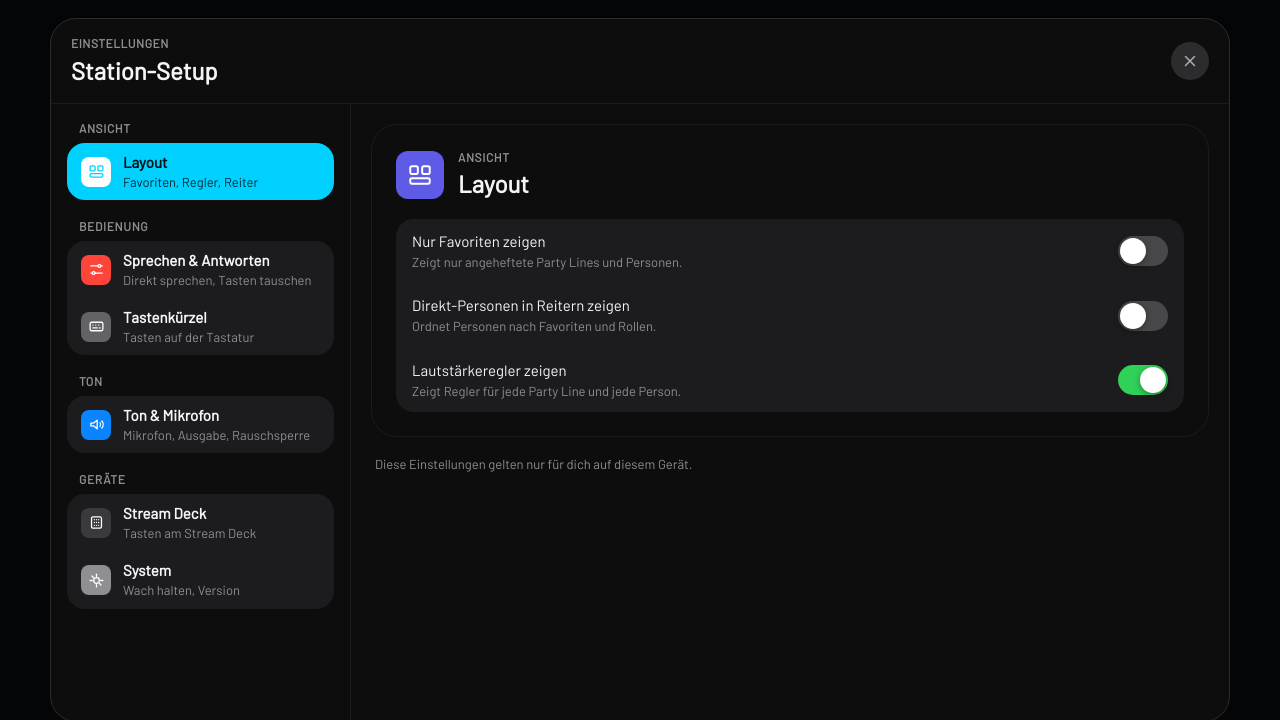
StationIntercomView › keeps remote audio controls active when the station shell is low-power
Later steps or results of the test are not shown.
Click the button "Ton & Mikrofon Mikrofon, Ausgabe, Rauschsperre" at (200, 425), box [67,396,334,454]
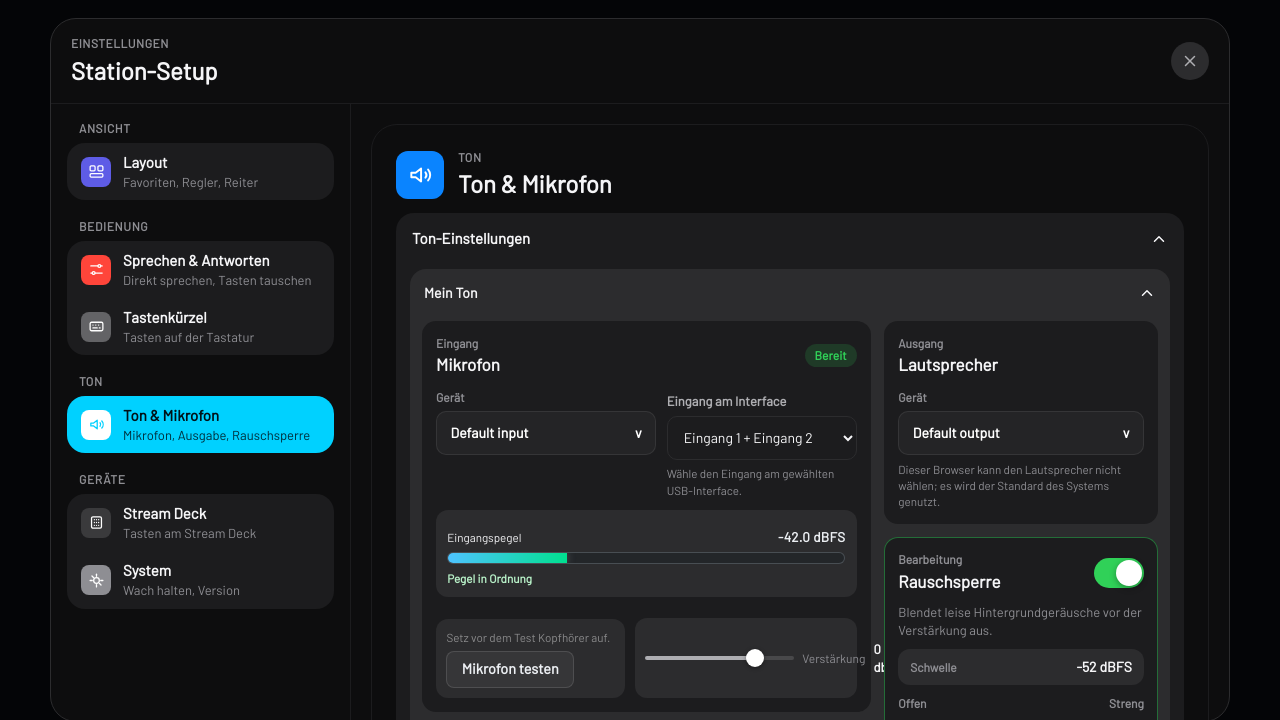
Now the text "-42.0 dBFS" is shown, box [778,528,846,546]
Now the button "Mikrofon testen" is enabled, box [446,651,574,688]
